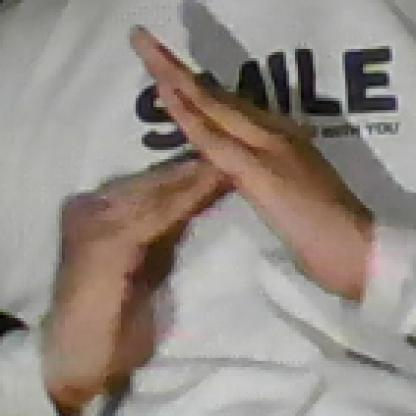Z: (44, 13, 337, 345)
